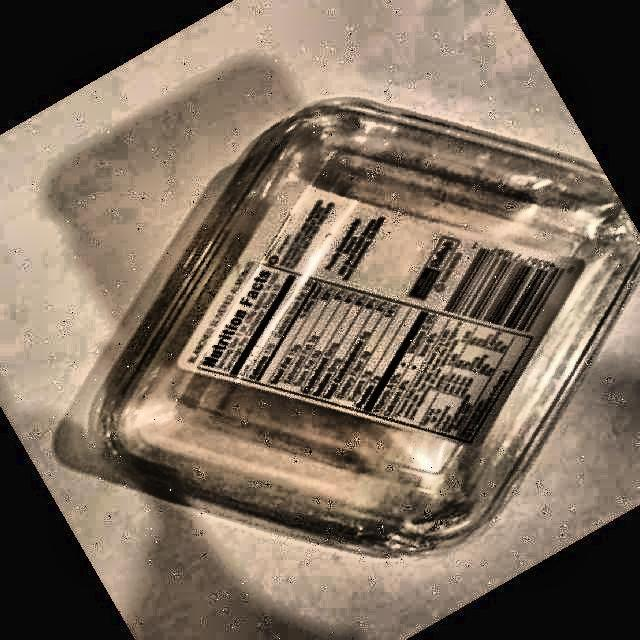plastic: (92, 100, 640, 555)
